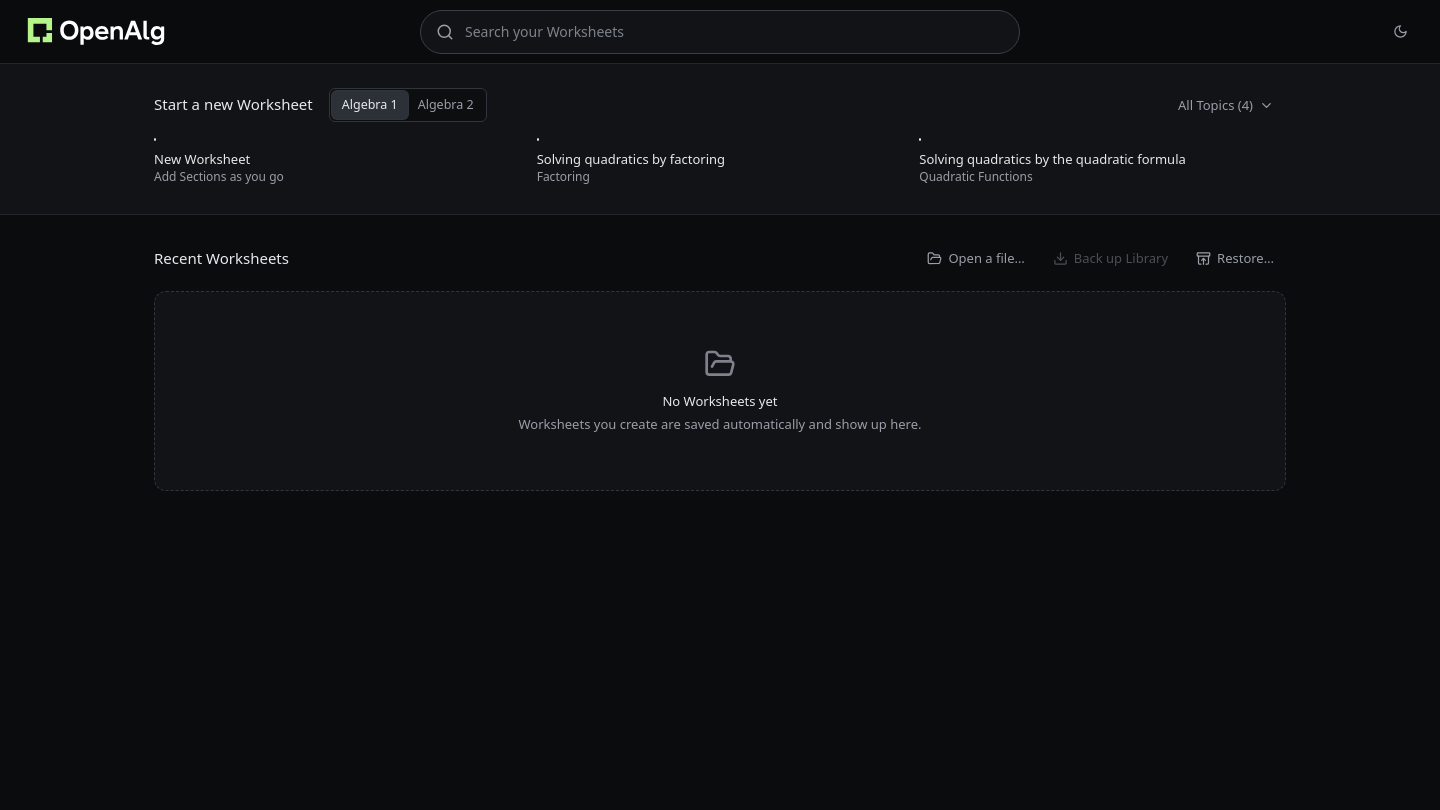
Scenario: home screen templates › expands to the selected Course's Units under headings, blank Worksheet first
Click the button "All Topics (4)" at (1226, 105), box [1166,89,1286,121]
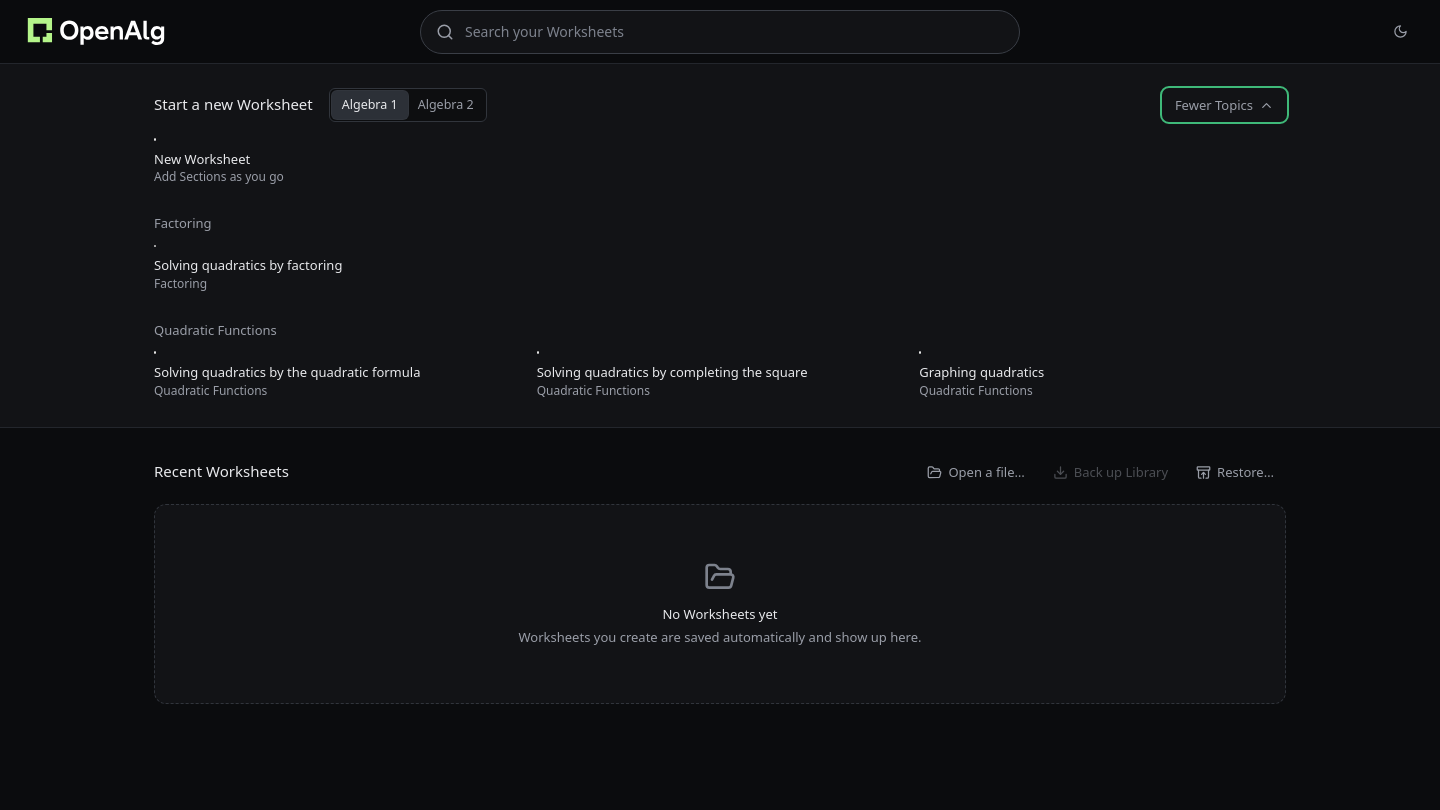
Expected: the text with class "line-clamp-2" reads "New Worksheet", [154,150,250,168]
Now the headings read "Factoring", "Quadratic Functions", in this order, box [154,214,212,232]; [154,320,277,338]
Click the radio button labelled "Algebra 2" at (446, 105), box [408,91,484,119]
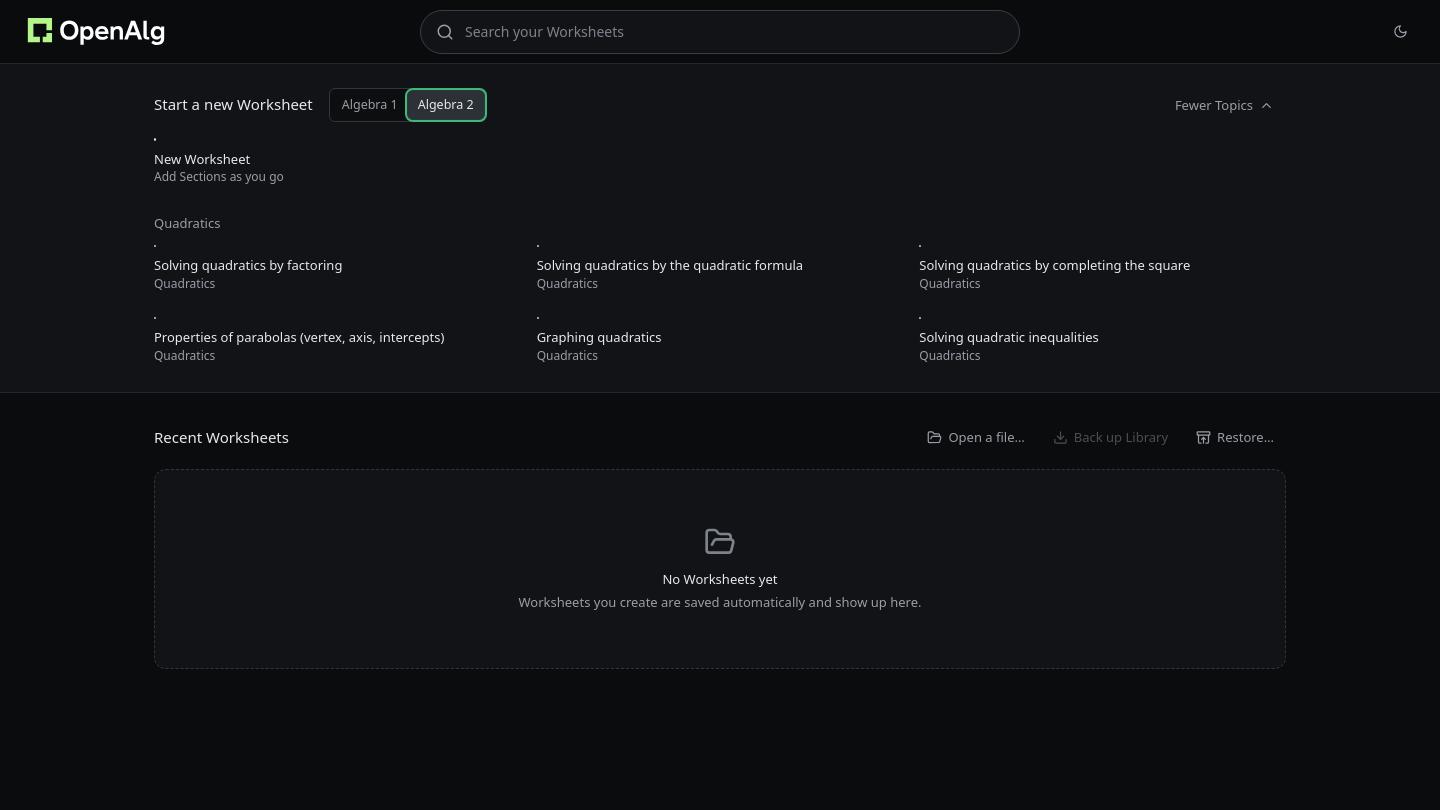
Now the button "Fewer Topics" is expanded, box [1163,89,1286,121]
Now the headings read "Quadratics", in this order, box [154,214,220,232]
